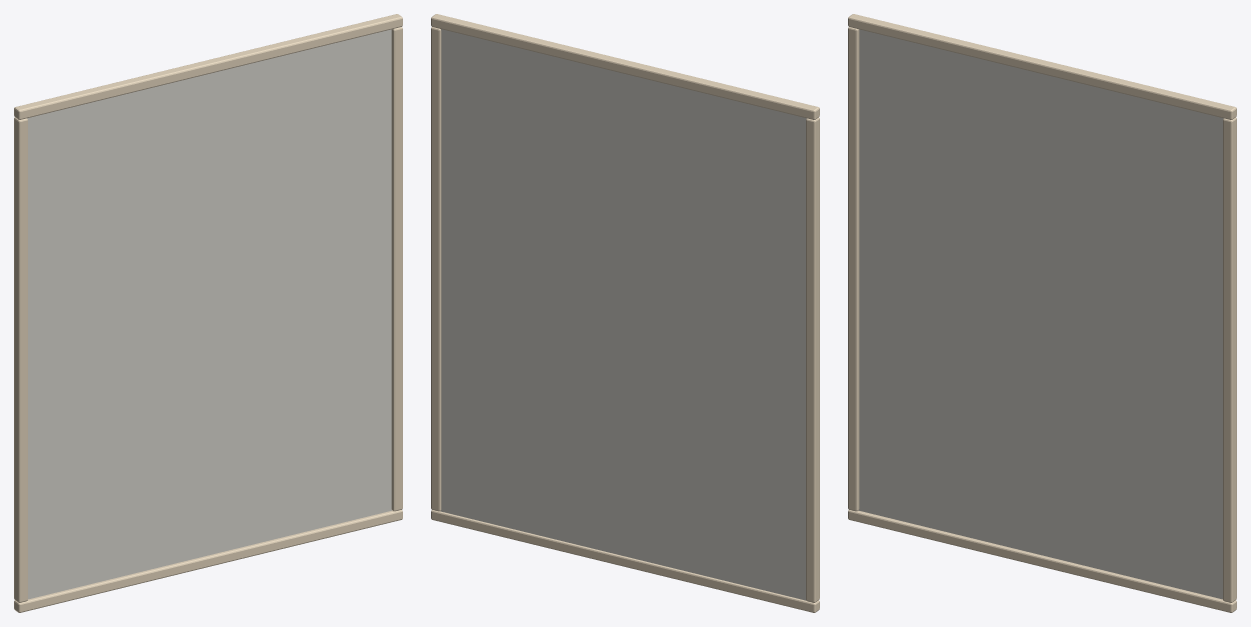
File: mo_art_tall.glb
The picture shows the model from 3 angles, left to right: view 1: azimuth 30°, elevation 25°; view 2: azimuth 150°, elevation 25°; view 3: azimuth 330°, elevation 25°; orthographic projection.
Parts seen in each view (by area): view 1: canvas, frame; view 2: canvas, frame; view 3: canvas, frame.
Boxes of the visible parts, x1,y1,x2,y2 form: canvas: [27, 29, 391, 599]; frame: [14, 14, 402, 612]; canvas: [440, 29, 806, 600]; frame: [431, 14, 819, 612]; canvas: [859, 29, 1223, 599]; frame: [848, 14, 1236, 612].
Bounding box in the file's own units: 0.8 × 1 × 0.02.
